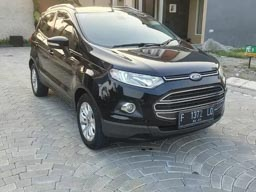plat: (181, 107, 212, 126)
